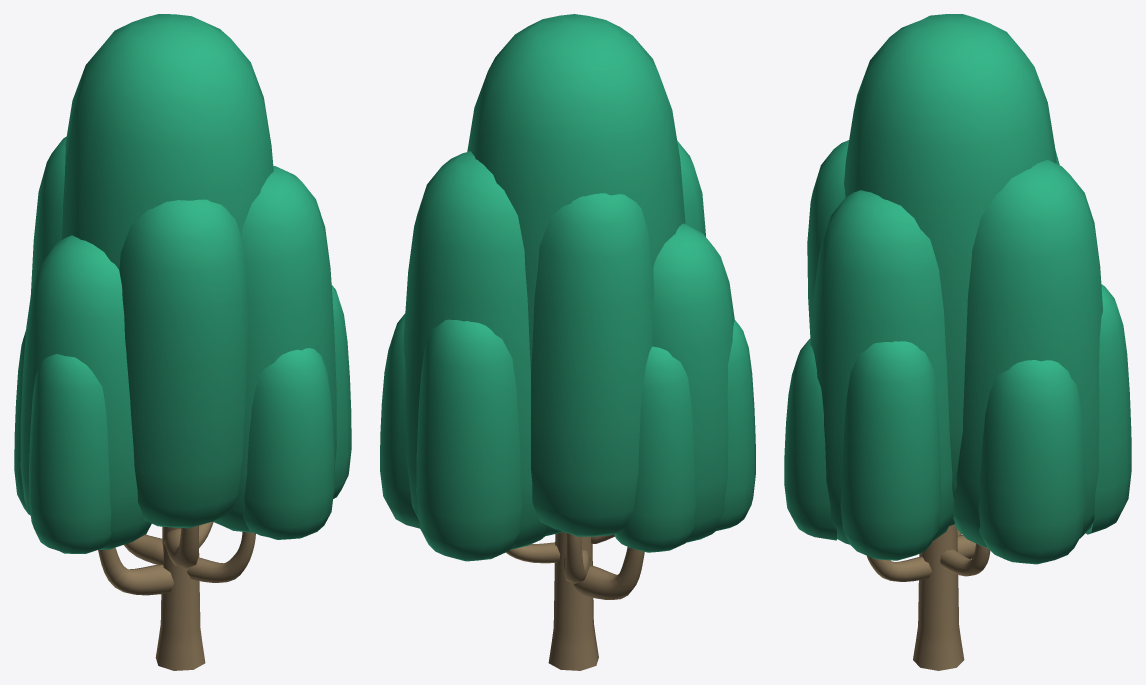
File: SM_Tree_Capsule_XL.fbx
The picture shows the model from 3 angles, left to right: view 1: azimuth 30°, elevation 25°; view 2: azimuth 150°, elevation 25°; view 3: azimuth 270°, elevation 25°; orthographic projection.
Visible parts, largest first — view 1: SM_Tree_Capsule_XL; view 2: SM_Tree_Capsule_XL; view 3: SM_Tree_Capsule_XL.
Part boxes in pixels (bbox=[...]): SM_Tree_Capsule_XL: bbox=[14, 14, 351, 670]; SM_Tree_Capsule_XL: bbox=[380, 14, 755, 670]; SM_Tree_Capsule_XL: bbox=[784, 14, 1131, 670].
Size of the model in its own units: 315 by 640 by 318.
